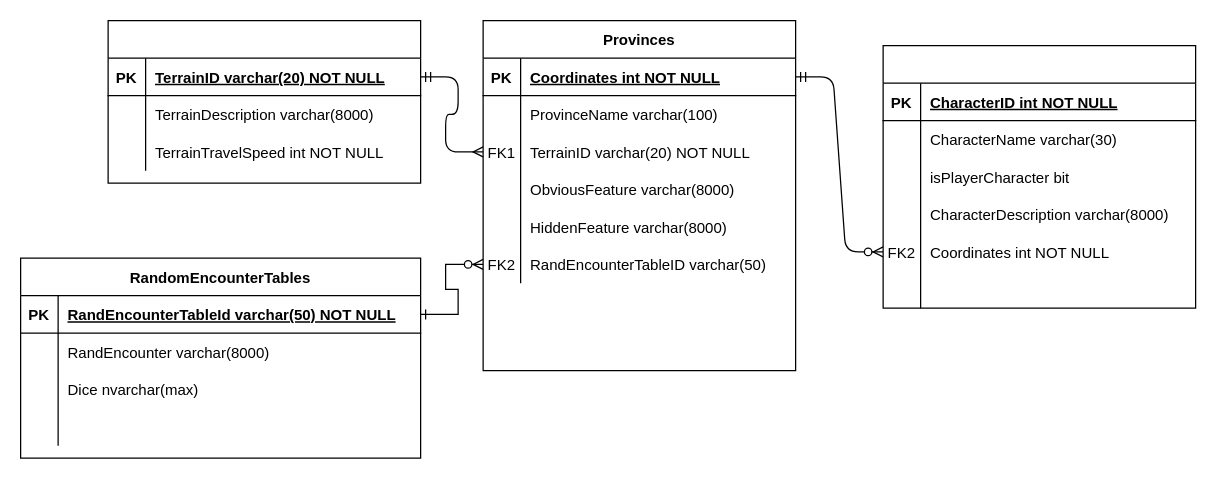
This 1216x479 diagram has some shape labels left out. Here are the shapes that lost their labels. From the top down, the box of each, then its label:
(107, 19, 421, 183): TerrainDetails
(882, 44, 1196, 308): Characters
